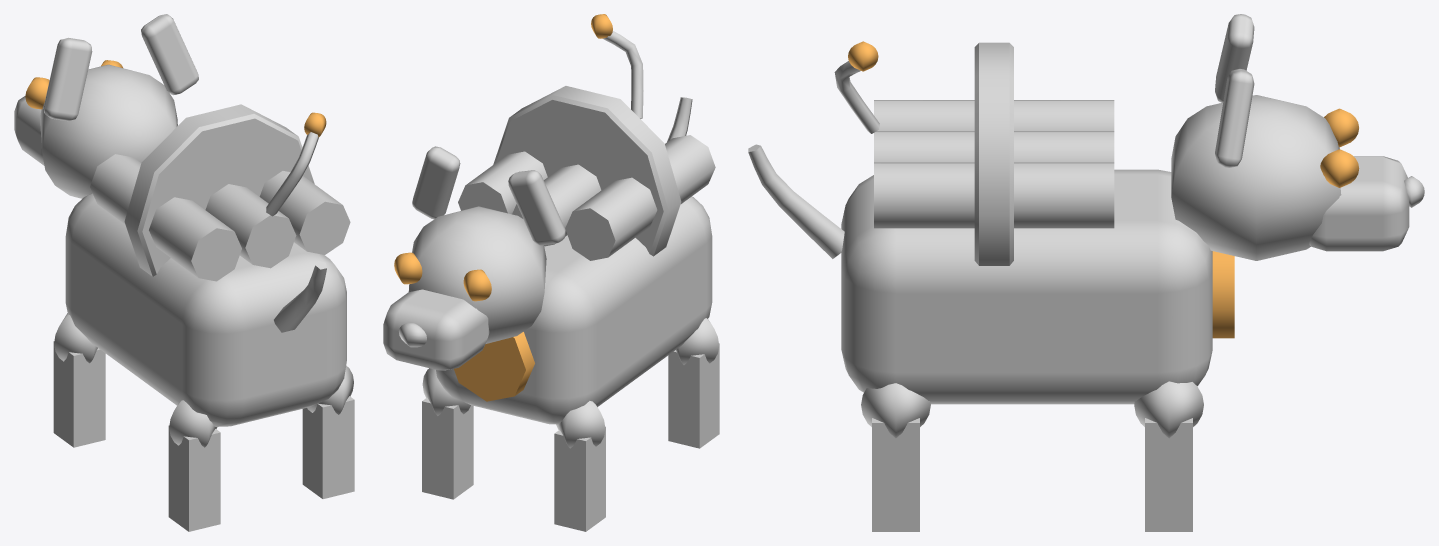
The model's file is TNTPup.glb.
The picture shows the model from 3 angles, left to right: view 1: azimuth 30°, elevation 25°; view 2: azimuth 150°, elevation 25°; view 3: azimuth 270°, elevation 25°; orthographic projection. The views are drawn at different scales.
Parts seen in each view (by area): view 1: Body, Glow; view 2: Body, Glow; view 3: Body, Glow.
Boxes of the visible parts, x1=… form: Body: x1=14, y1=14, x2=354, y2=531; Glow: x1=25, y1=60, x2=326, y2=137; Body: x1=383, y1=31, x2=719, y2=531; Glow: x1=394, y1=14, x2=612, y2=401; Body: x1=748, y1=14, x2=1424, y2=531; Glow: x1=848, y1=41, x2=1359, y2=338.
Size of the model in its own units: 1.16 by 2.35 by 3.1.
